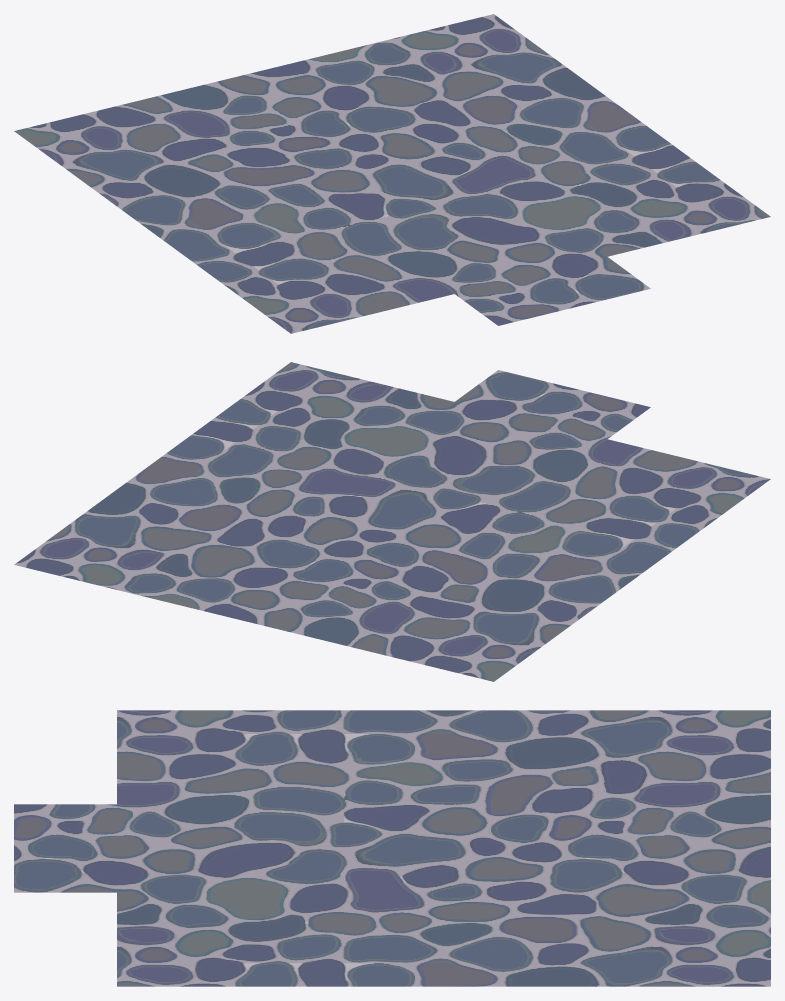
Rendered from Floor01_e01.FBX.
3 renders of one model, top to bottom at view 1: azimuth 30°, elevation 25°; view 2: azimuth 150°, elevation 25°; view 3: azimuth 270°, elevation 25°, orthographic. The views are drawn at different scales.
Parts seen in each view (by area): view 1: Floor01_e01; view 2: Floor01_e01; view 3: Floor01_e01.
Boxes of the visible parts, bbox=[...] form: Floor01_e01: bbox=[14, 14, 770, 333]; Floor01_e01: bbox=[14, 362, 770, 681]; Floor01_e01: bbox=[14, 710, 770, 986].
Size of the model in its own units: 600 by 0.000218 by 695.
1 material, 1 textured.
